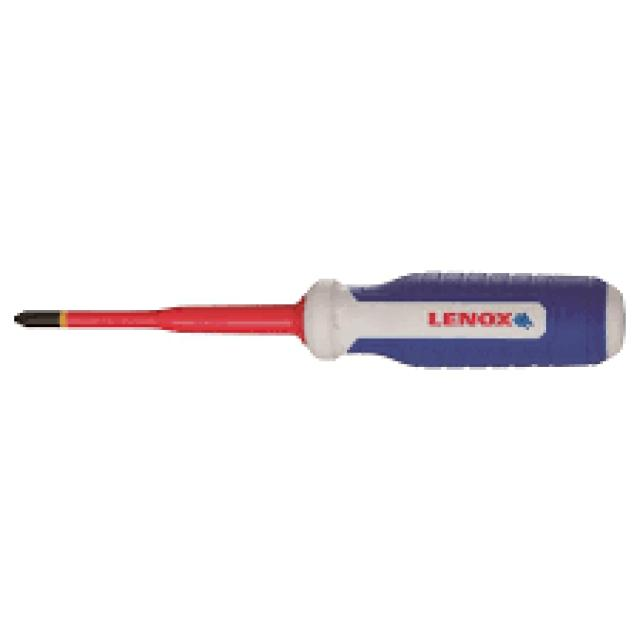screw driver: (0, 243, 637, 397)
